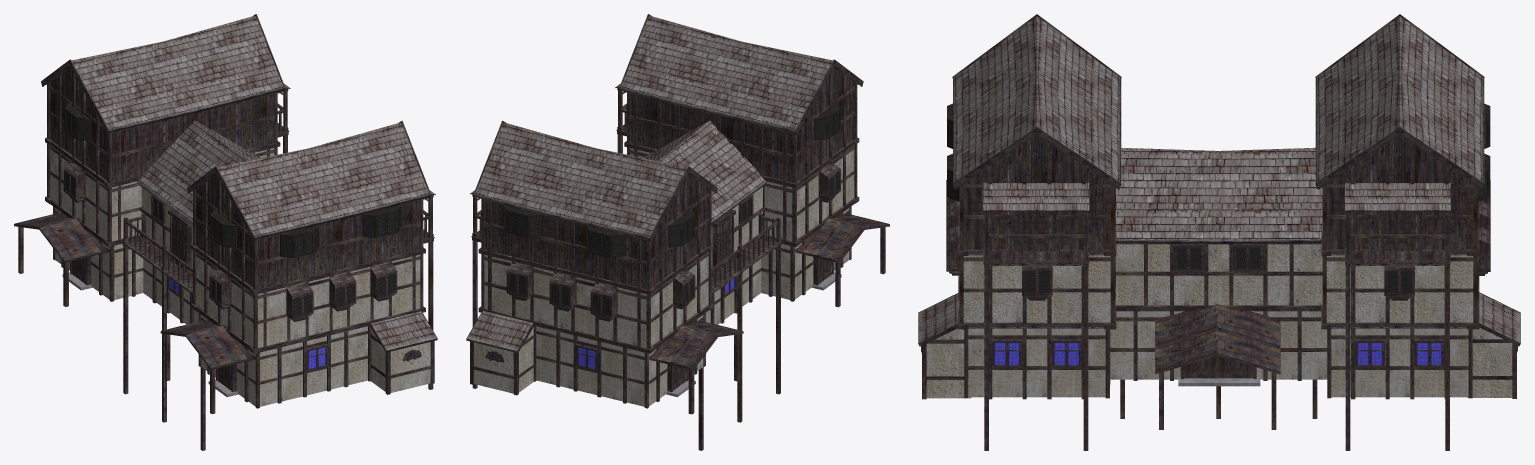
File: hhouse08.dae
3 renders of one model, left to right at view 1: azimuth 30°, elevation 25°; view 2: azimuth 150°, elevation 25°; view 3: azimuth 270°, elevation 25°, orthographic. The views are drawn at different scales.
Parts seen in each view (by area): view 1: House2_Roof, House2_Roof_001, House2_Level3_001, House2_Level3, House2_Level2_001, House2_Level1_001, House1_Roof, House2_Level3_Beams, House2_Level3_Beams_001, House2_Level2_Beams_001, House2_Level2, House2_Level1_Beams_001 (+36 smaller); view 2: House2_Roof_001, House2_Roof, House2_Level3, House2_Level3_001, House2_Level2, House2_Level1, House1_Roof, House2_Level3_Beams_001, House2_Level3_Beams, House2_Level2_Beams, House2_Level2_001, House2_Level1_Beams (+36 smaller); view 3: House1_Roof, House2_Roof, House2_Roof_001, House1_Level2, House2_Level3, House2_Level3_001, House2_Level2, House2_Level2_001, House2_Level1, House2_Level1_001, House1_Level1, Roof1Outer_001 (+40 smaller).
Boxes of the visible parts, x1=… form: House2_Roof: x1=71, y1=15, x2=283, y2=129; House2_Roof_001: x1=217, y1=122, x2=429, y2=236; House2_Level3_001: x1=196, y1=174, x2=420, y2=289; House2_Level3: x1=50, y1=67, x2=274, y2=182; House2_Level2_001: x1=196, y1=252, x2=420, y2=347; House2_Level1_001: x1=201, y1=315, x2=367, y2=406; House1_Roof: x1=138, y1=120, x2=259, y2=221; House2_Level3_Beams: x1=47, y1=70, x2=277, y2=183; House2_Level3_Beams_001: x1=193, y1=176, x2=423, y2=290; House2_Level2_Beams_001: x1=193, y1=250, x2=423, y2=349; House2_Level2: x1=50, y1=147, x2=274, y2=241; House2_Level1_Beams_001: x1=198, y1=313, x2=371, y2=408; House2_Roof_001: x1=621, y1=15, x2=832, y2=129; House2_Roof: x1=475, y1=122, x2=687, y2=236; House2_Level3: x1=484, y1=174, x2=708, y2=289; House2_Level3_001: x1=630, y1=67, x2=854, y2=182; House2_Level2: x1=484, y1=254, x2=708, y2=347; House2_Level1: x1=536, y1=315, x2=703, y2=406; House1_Roof: x1=645, y1=120, x2=765, y2=221; House2_Level3_Beams_001: x1=627, y1=69, x2=857, y2=183; House2_Level3_Beams: x1=481, y1=176, x2=711, y2=290; House2_Level2_Beams: x1=481, y1=250, x2=711, y2=349; House2_Level2_001: x1=630, y1=147, x2=854, y2=241; House2_Level1_Beams: x1=533, y1=313, x2=705, y2=408; House1_Roof: x1=1115, y1=147, x2=1322, y2=240; House2_Roof: x1=1317, y1=16, x2=1482, y2=181; House2_Roof_001: x1=954, y1=16, x2=1119, y2=181; House1_Level2: x1=1115, y1=244, x2=1322, y2=305; House2_Level3: x1=1326, y1=134, x2=1473, y2=249; House2_Level3_001: x1=963, y1=134, x2=1110, y2=249; House2_Level2: x1=1326, y1=255, x2=1473, y2=322; House2_Level2_001: x1=963, y1=255, x2=1110, y2=322; House2_Level1: x1=1331, y1=328, x2=1468, y2=397; House2_Level1_001: x1=968, y1=328, x2=1105, y2=397; House1_Level1: x1=1110, y1=311, x2=1327, y2=379; Roof1Outer_001: x1=1155, y1=327, x2=1279, y2=371.
Size of the model in its own units: 12.13 by 19.7 by 14.09.
28 materials, 28 textured.
